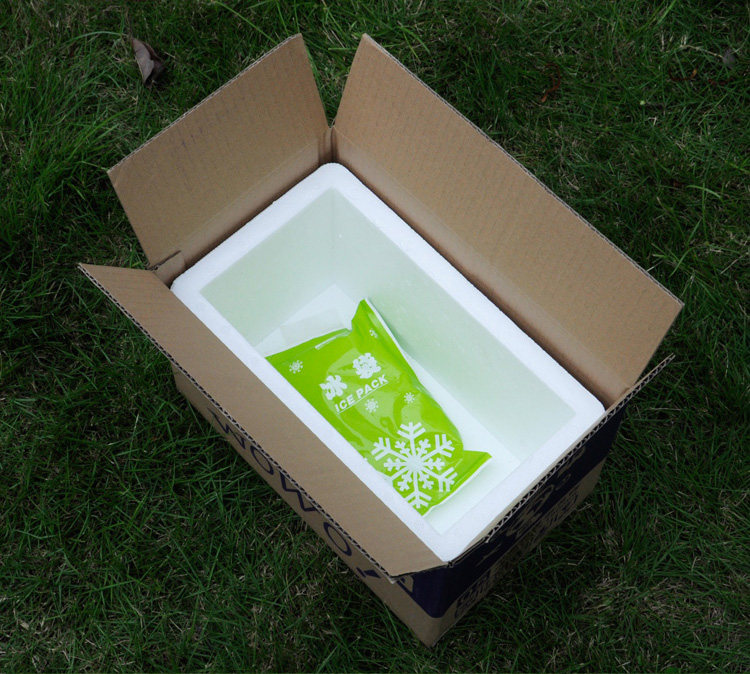Boxes: (172, 164, 603, 561)
